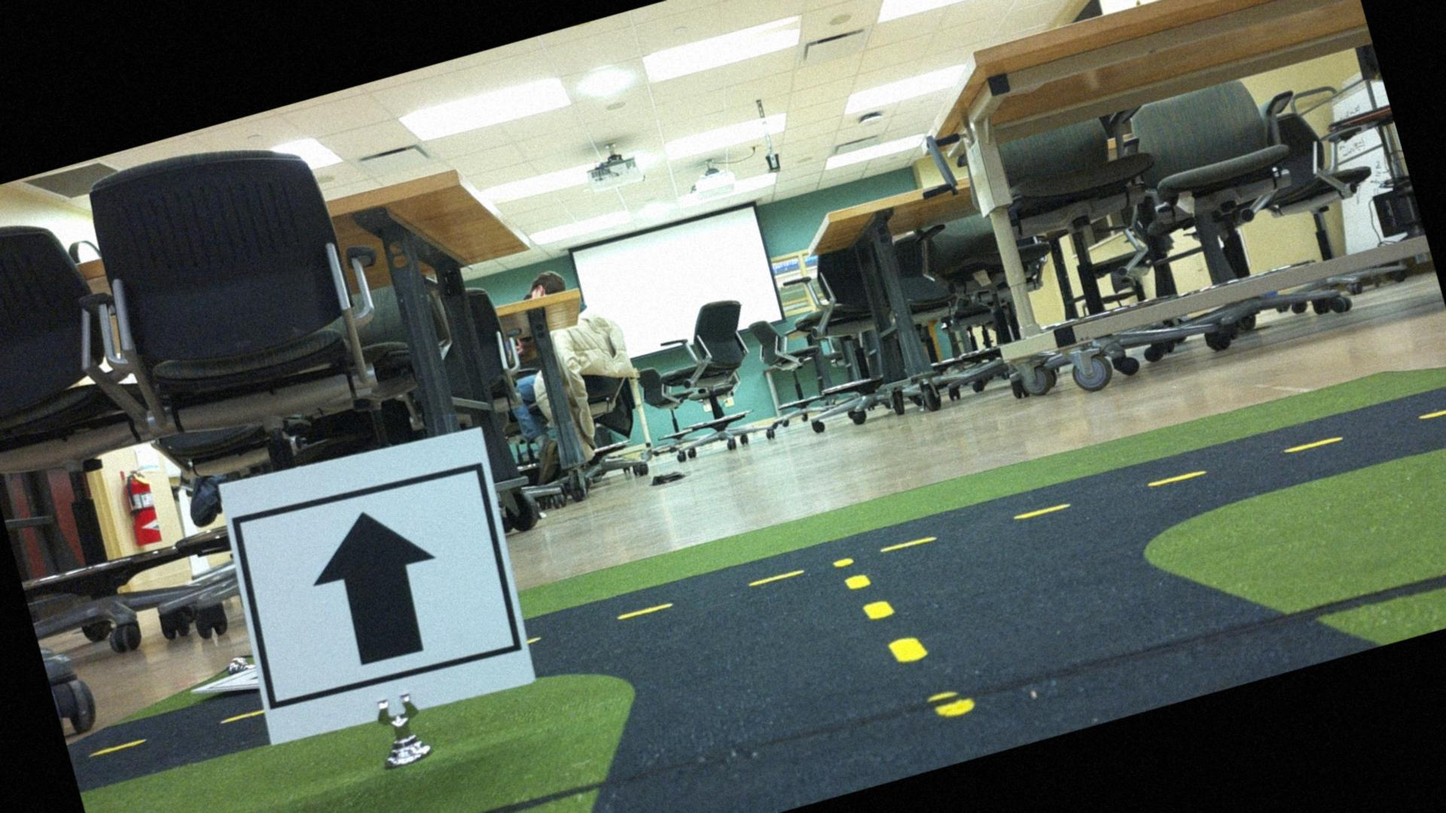gostraight: (226, 433, 532, 729)
yellowline: (1014, 385, 1445, 532), (834, 537, 966, 737), (618, 562, 804, 628)
